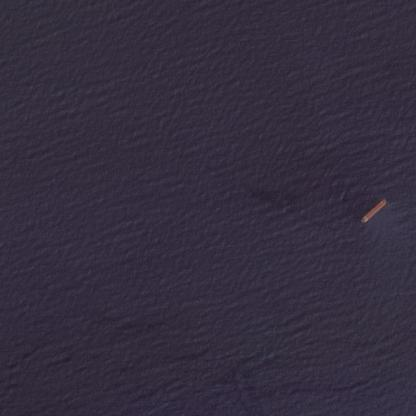ship: (359, 197, 388, 224)
